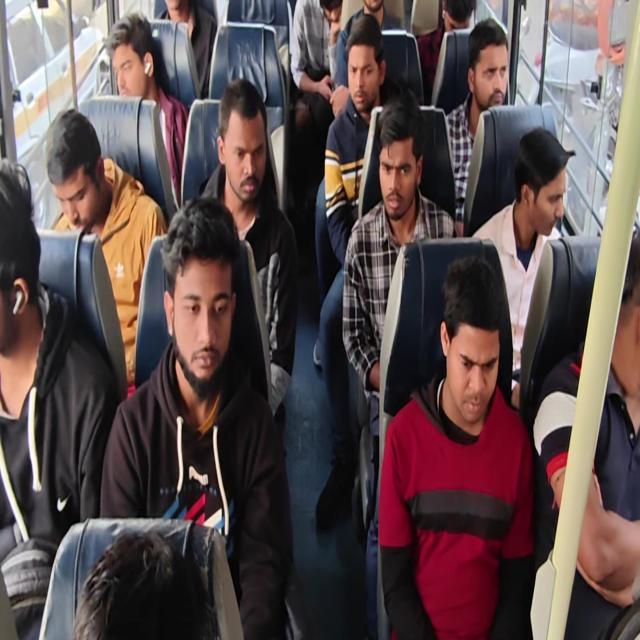person: (65, 535, 216, 640), (159, 212, 242, 385), (435, 283, 500, 430), (0, 172, 55, 339), (199, 87, 280, 200), (513, 136, 571, 248), (45, 116, 107, 220), (371, 124, 419, 216), (474, 44, 515, 128), (111, 36, 158, 99), (350, 39, 380, 112), (312, 0, 356, 49), (437, 0, 473, 46), (346, 0, 392, 17)
